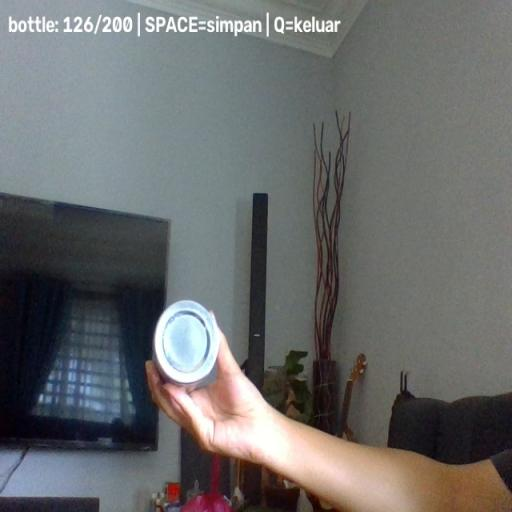Bottle: (151, 299, 221, 386)
